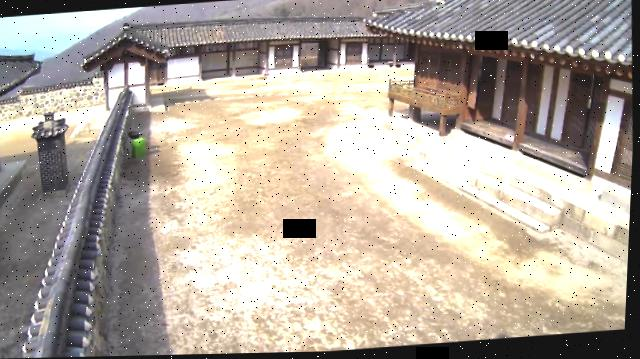bag: (130, 136, 149, 159)
